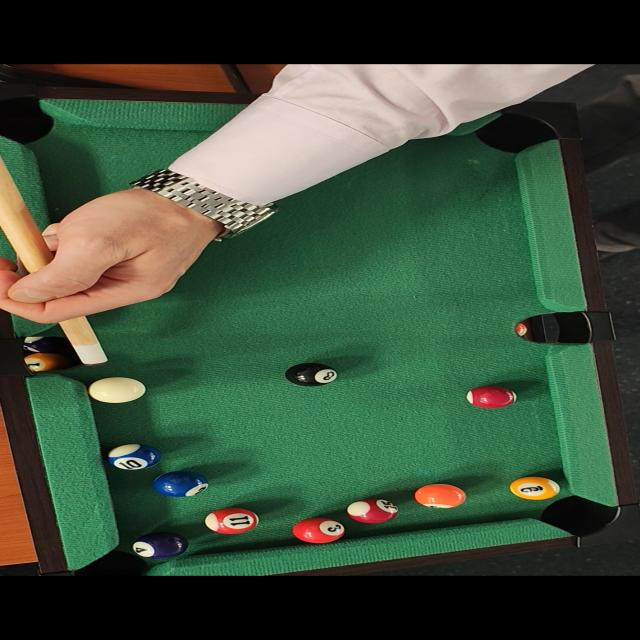cue ball: (81, 375, 152, 403)
other: (95, 442, 166, 473), (122, 530, 190, 559), (154, 467, 215, 499), (411, 480, 470, 510), (282, 360, 342, 389), (287, 518, 353, 544), (504, 474, 563, 500), (205, 507, 262, 533), (468, 383, 522, 410), (341, 498, 397, 523)
